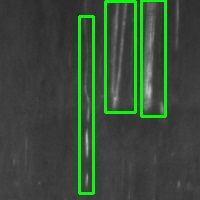scratches: (105, 1, 135, 112), (141, 1, 165, 116), (79, 16, 93, 193)
